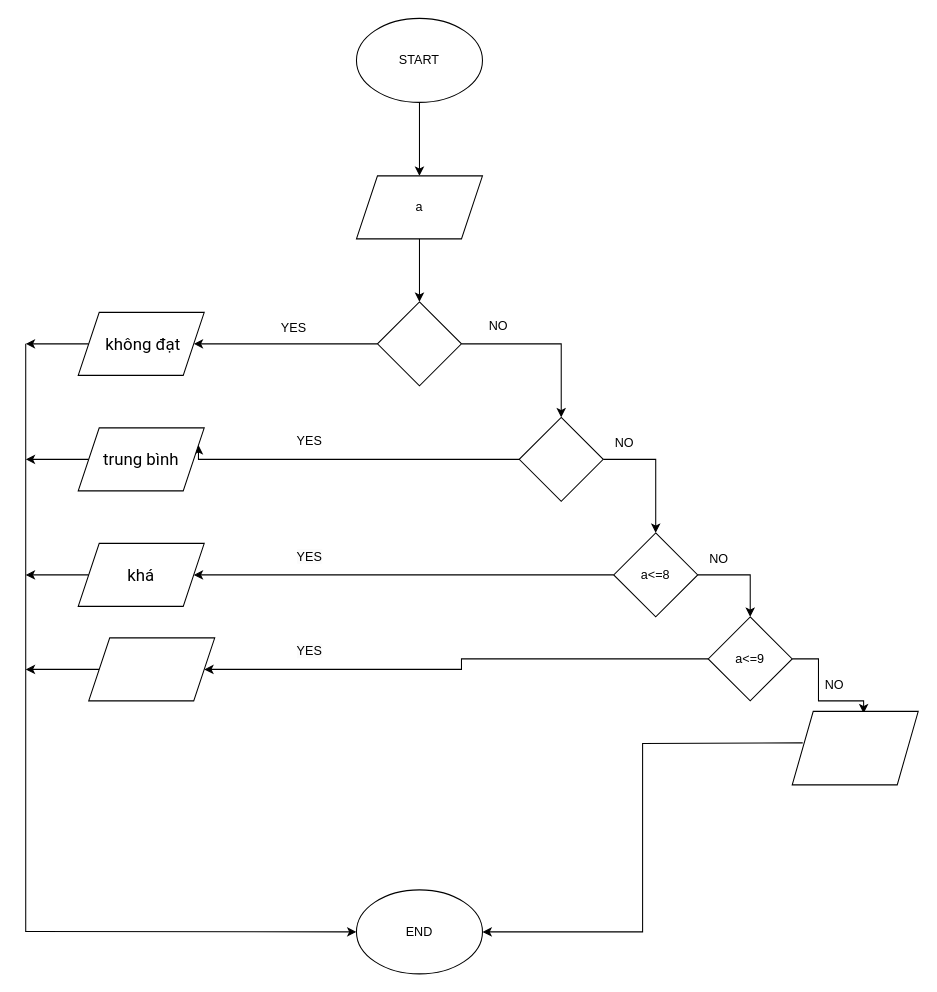
The diagram is 937 pixels wide and 992 high, and some of its shapes have lost their labels. The centre of each missing label's shape, as x and y in pixels:
a<4?: point (418, 343)
a<=6: point (560, 458)
giỏi: point (151, 669)
xuất sắc: point (854, 747)
